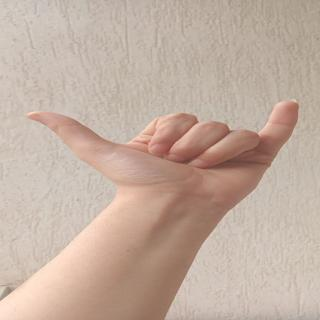YA: (3, 90, 320, 191)
